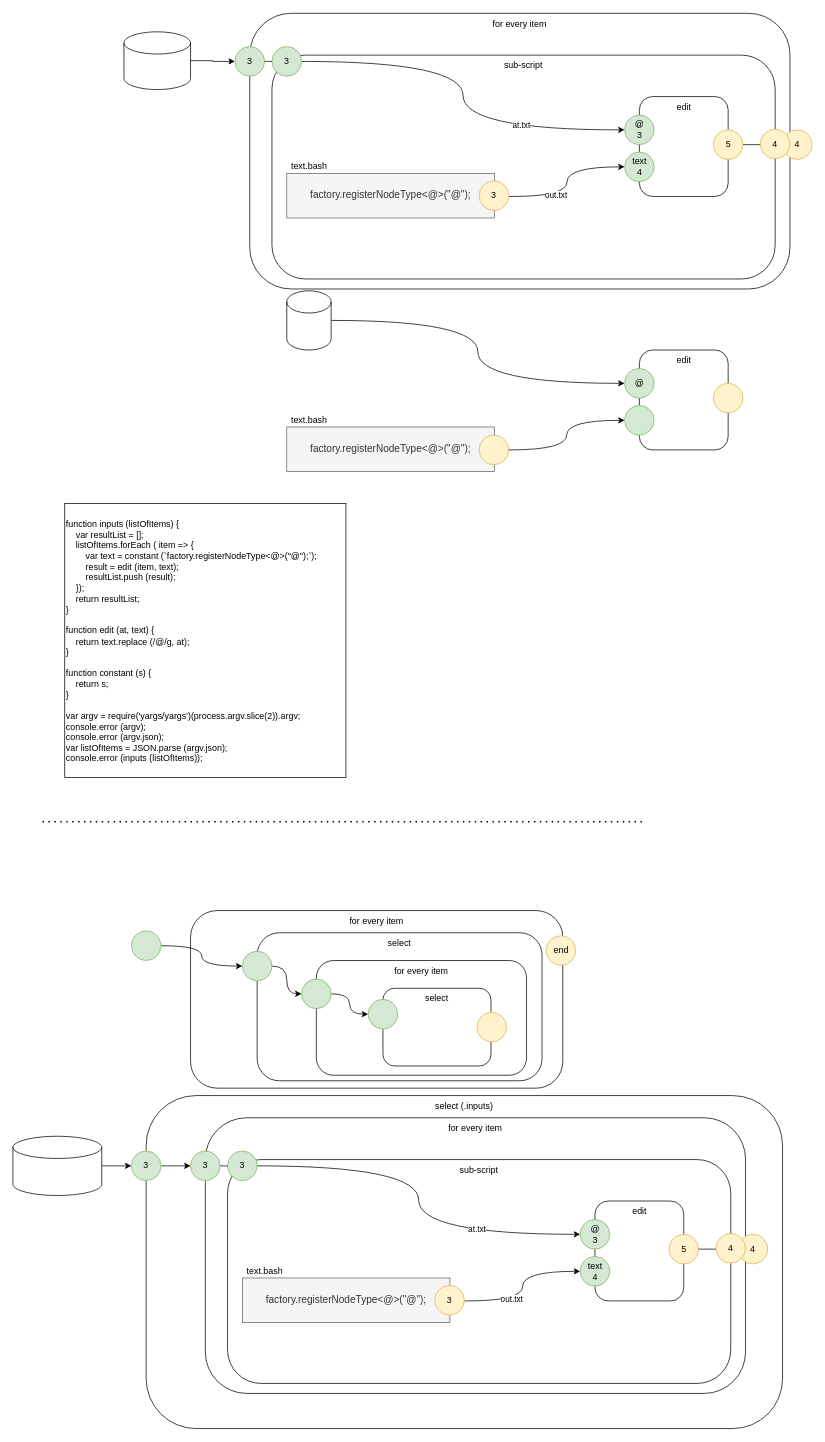
Some shapes in this 825 by 1442 pixel diagram are drawn without their labels. The shapes that lost their labels are listed below. From the top down, each one's centre as x and y in pixels, then its label:
point (157, 60): ["A", "B", "C"]
point (308, 320): _junk. txt "junk"
point (639, 420): text
point (257, 966): .inputs
point (382, 1014): item
point (57, 1165): {"z":4, "inputs" : ['a', 'b', 'c'], "y" : 5}
